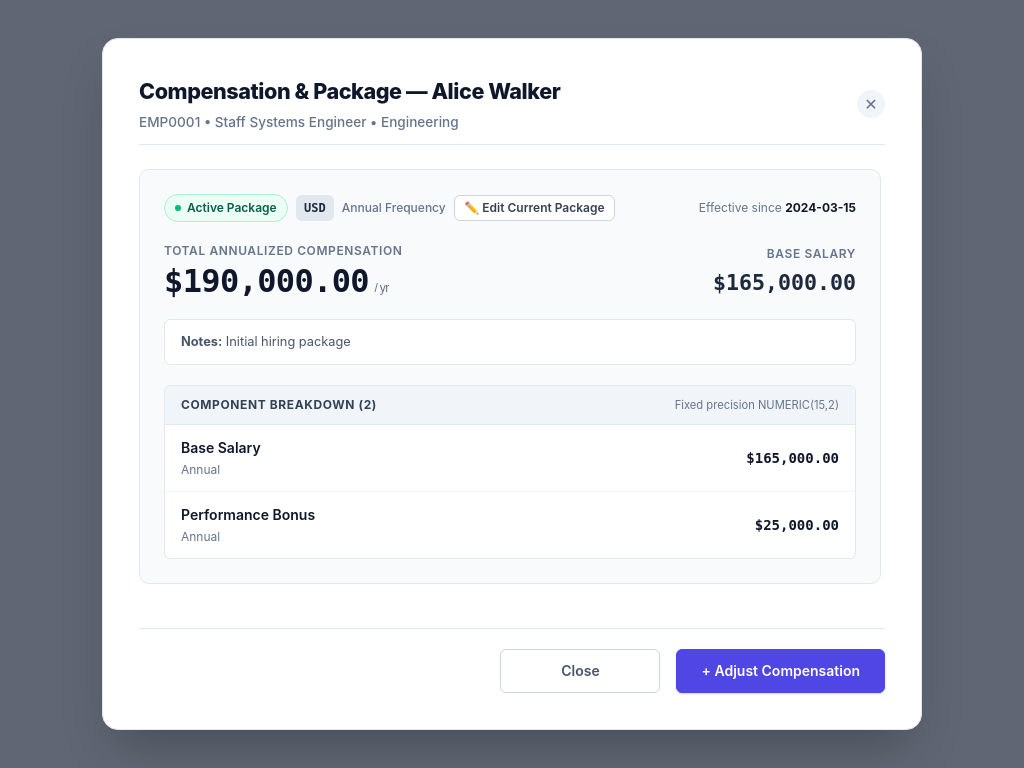
Test: CompensationModal Component › opens Adjust Compensation modal when clicking adjust button
Step 1. Click the button "+ Adjust Compensation" → {"x": 781, "y": 671}, box [676,649,885,693]
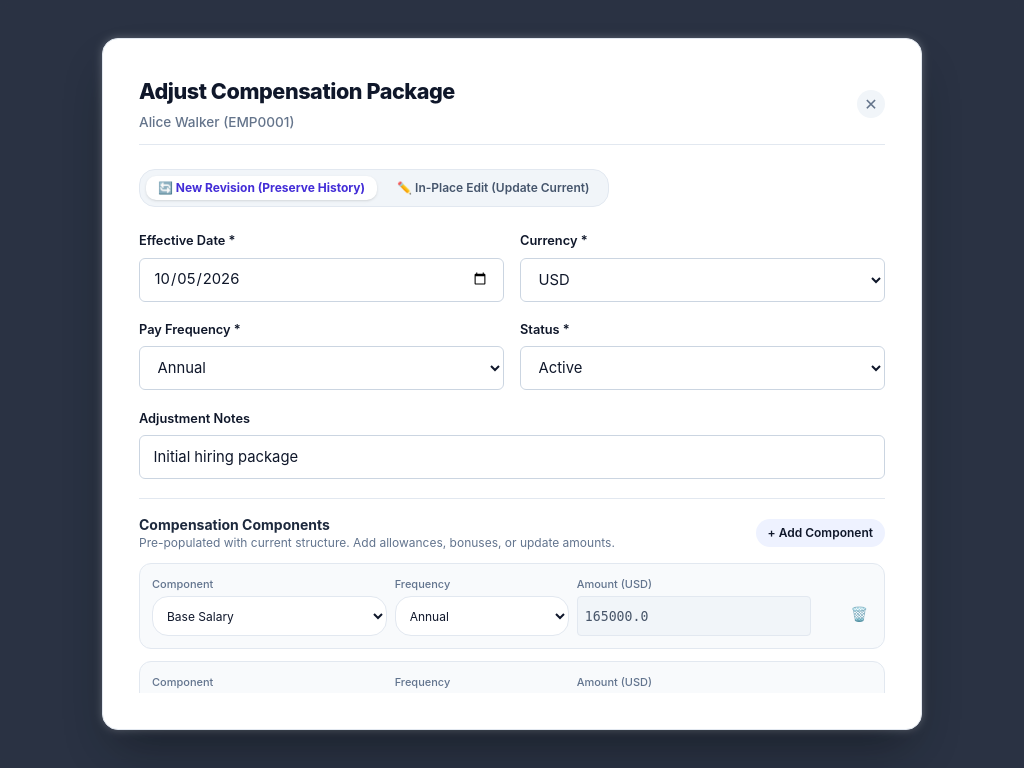
Expected: the dialog "Adjust Compensation Package" is shown
